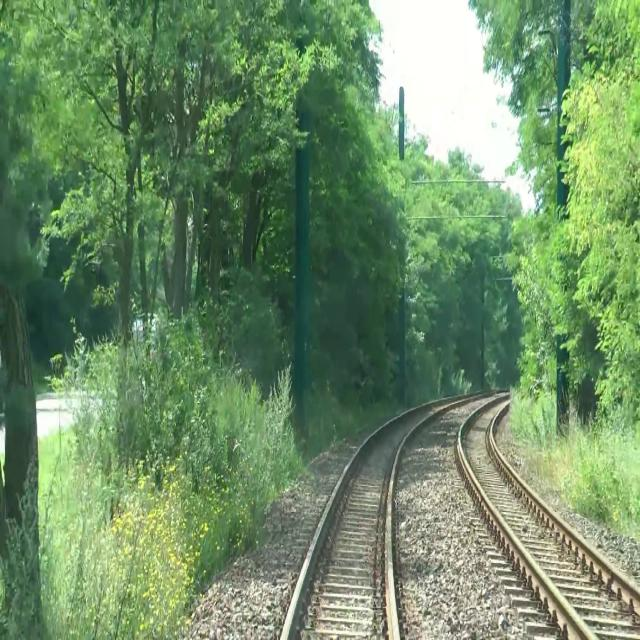rail-track: (462, 398, 640, 639), (285, 405, 436, 639)
